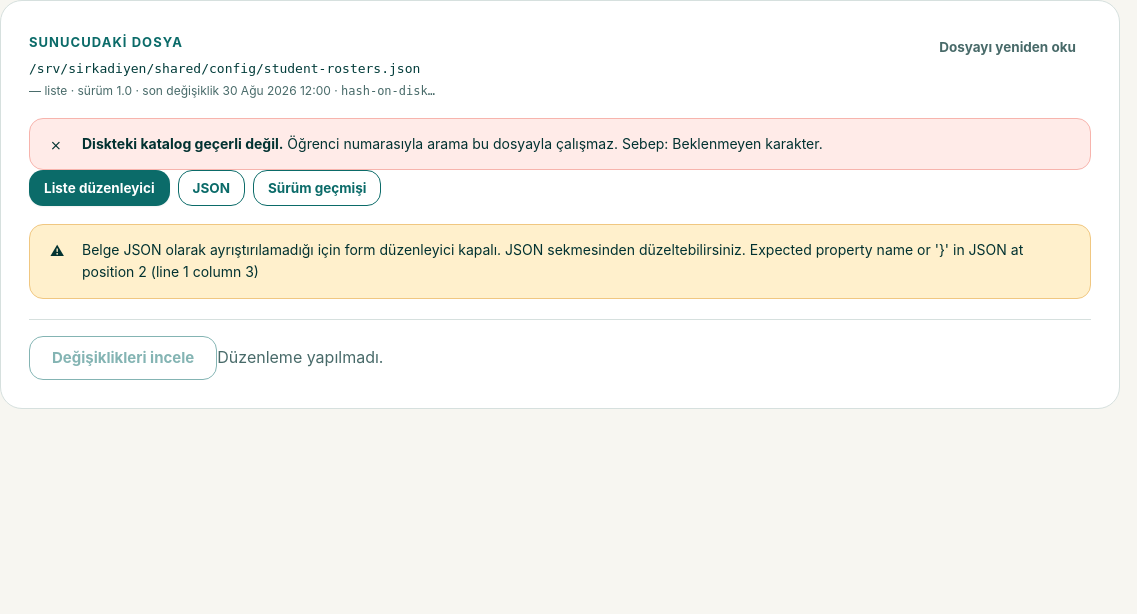
Scenario: RosterCatalogEditor › keeps the raw JSON editor usable when the document does not parse
Expected: the text "/srv/sirkadiyen/shared/config/student-rosters.json" is shown, [29,59,435,79]
Expected: the text "Diskteki katalog geçerli değil." is shown, [82,135,283,152]
Click the tab "JSON" at (211, 188), box [178,170,245,206]
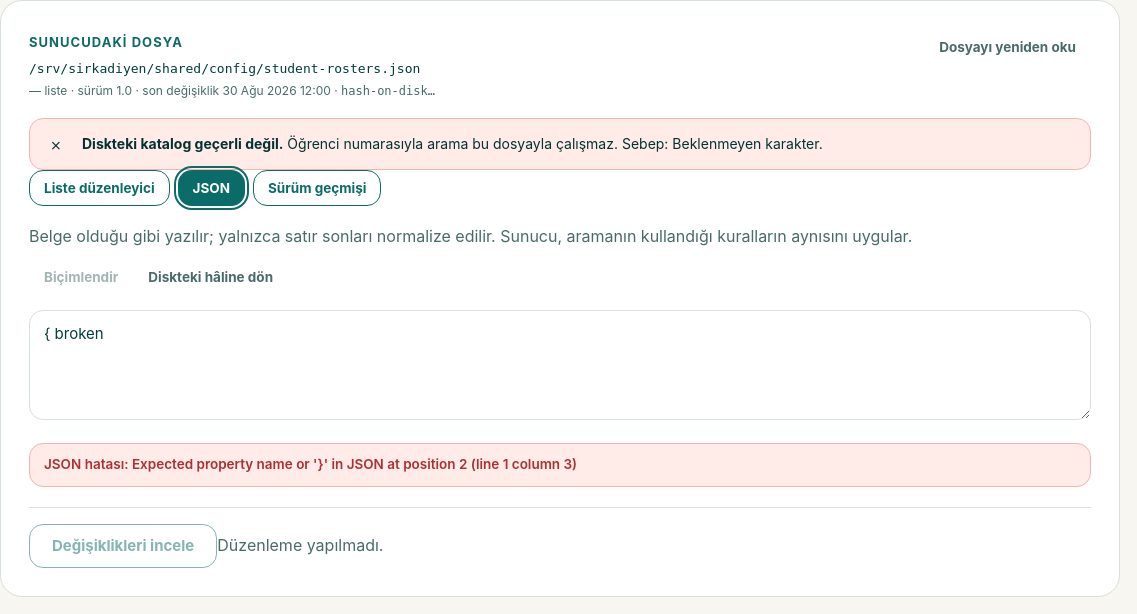
Expected: the text box named "Öğrenci listesi kataloğu JSON belgesi" holds "{ broken", [29,310,1091,420]
